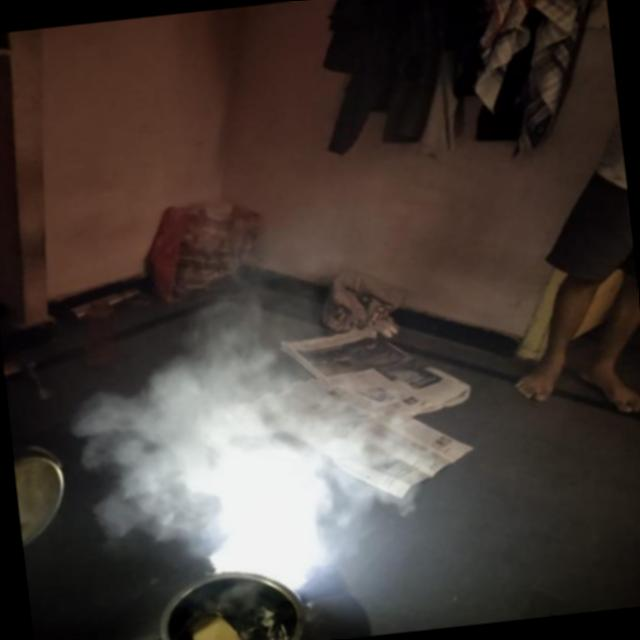smoke: (178, 368, 396, 598)
